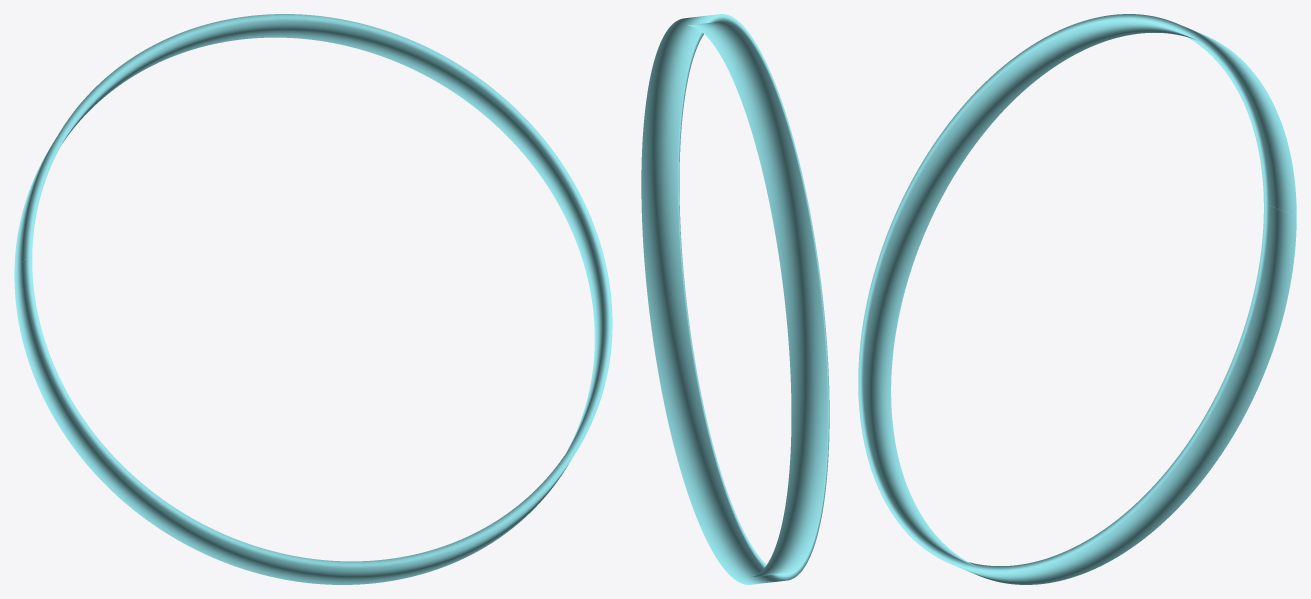
Rendered from coil_coil_1_tube.gltf.
3 renders of one model, left to right at view 1: azimuth 30°, elevation 25°; view 2: azimuth 150°, elevation 25°; view 3: azimuth 270°, elevation 25°, orthographic. The views are drawn at different scales.
Visible parts, largest first — view 1: Renderer Node; view 2: Renderer Node; view 3: Renderer Node.
Boxes of the visible parts, left/top/right/bottom form: Renderer Node: left=14, top=14, right=612, bottom=584; Renderer Node: left=641, top=14, right=829, bottom=584; Renderer Node: left=858, top=14, right=1296, bottom=584.
Size of the model in its own units: 0.4614 by 0.608 by 0.455.
